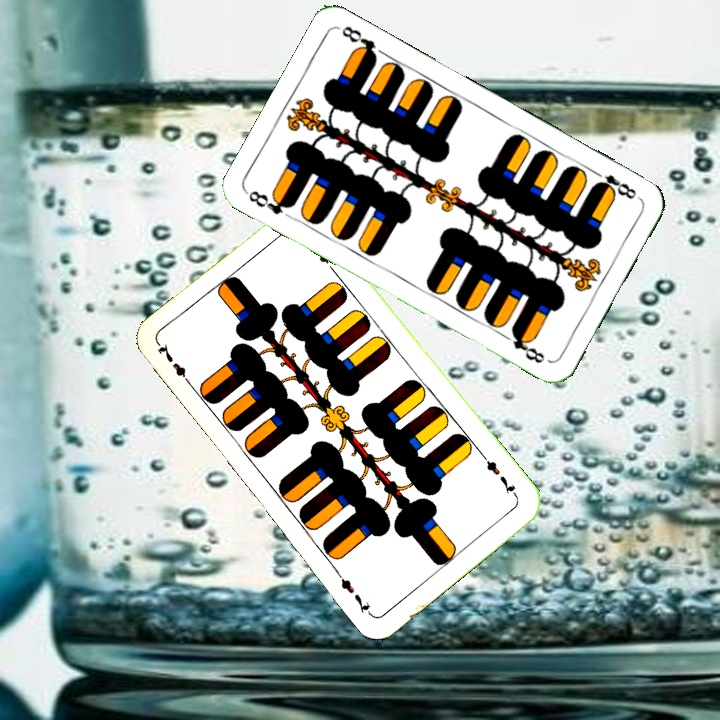E7: (153, 340, 196, 390), (478, 451, 520, 500)
E8: (588, 166, 639, 202), (243, 186, 297, 217)
